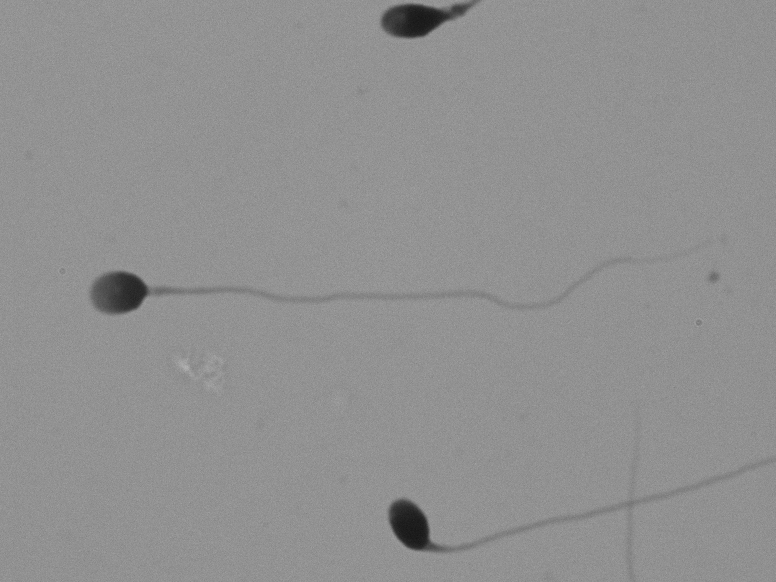Abnormal: (352, 441, 748, 564), (349, 4, 484, 50)
Normal: (51, 215, 733, 364)
